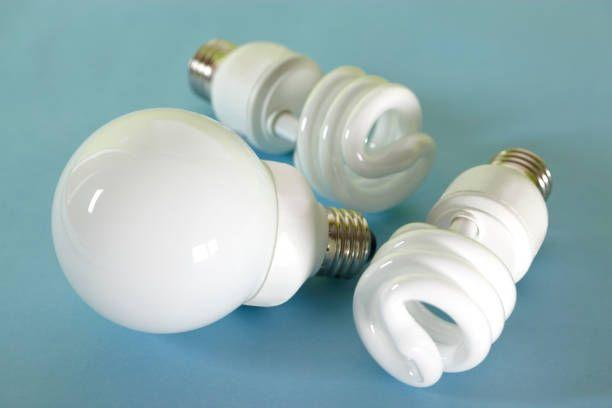light bulb: (49, 104, 377, 336), (351, 146, 555, 389), (190, 36, 439, 217)
